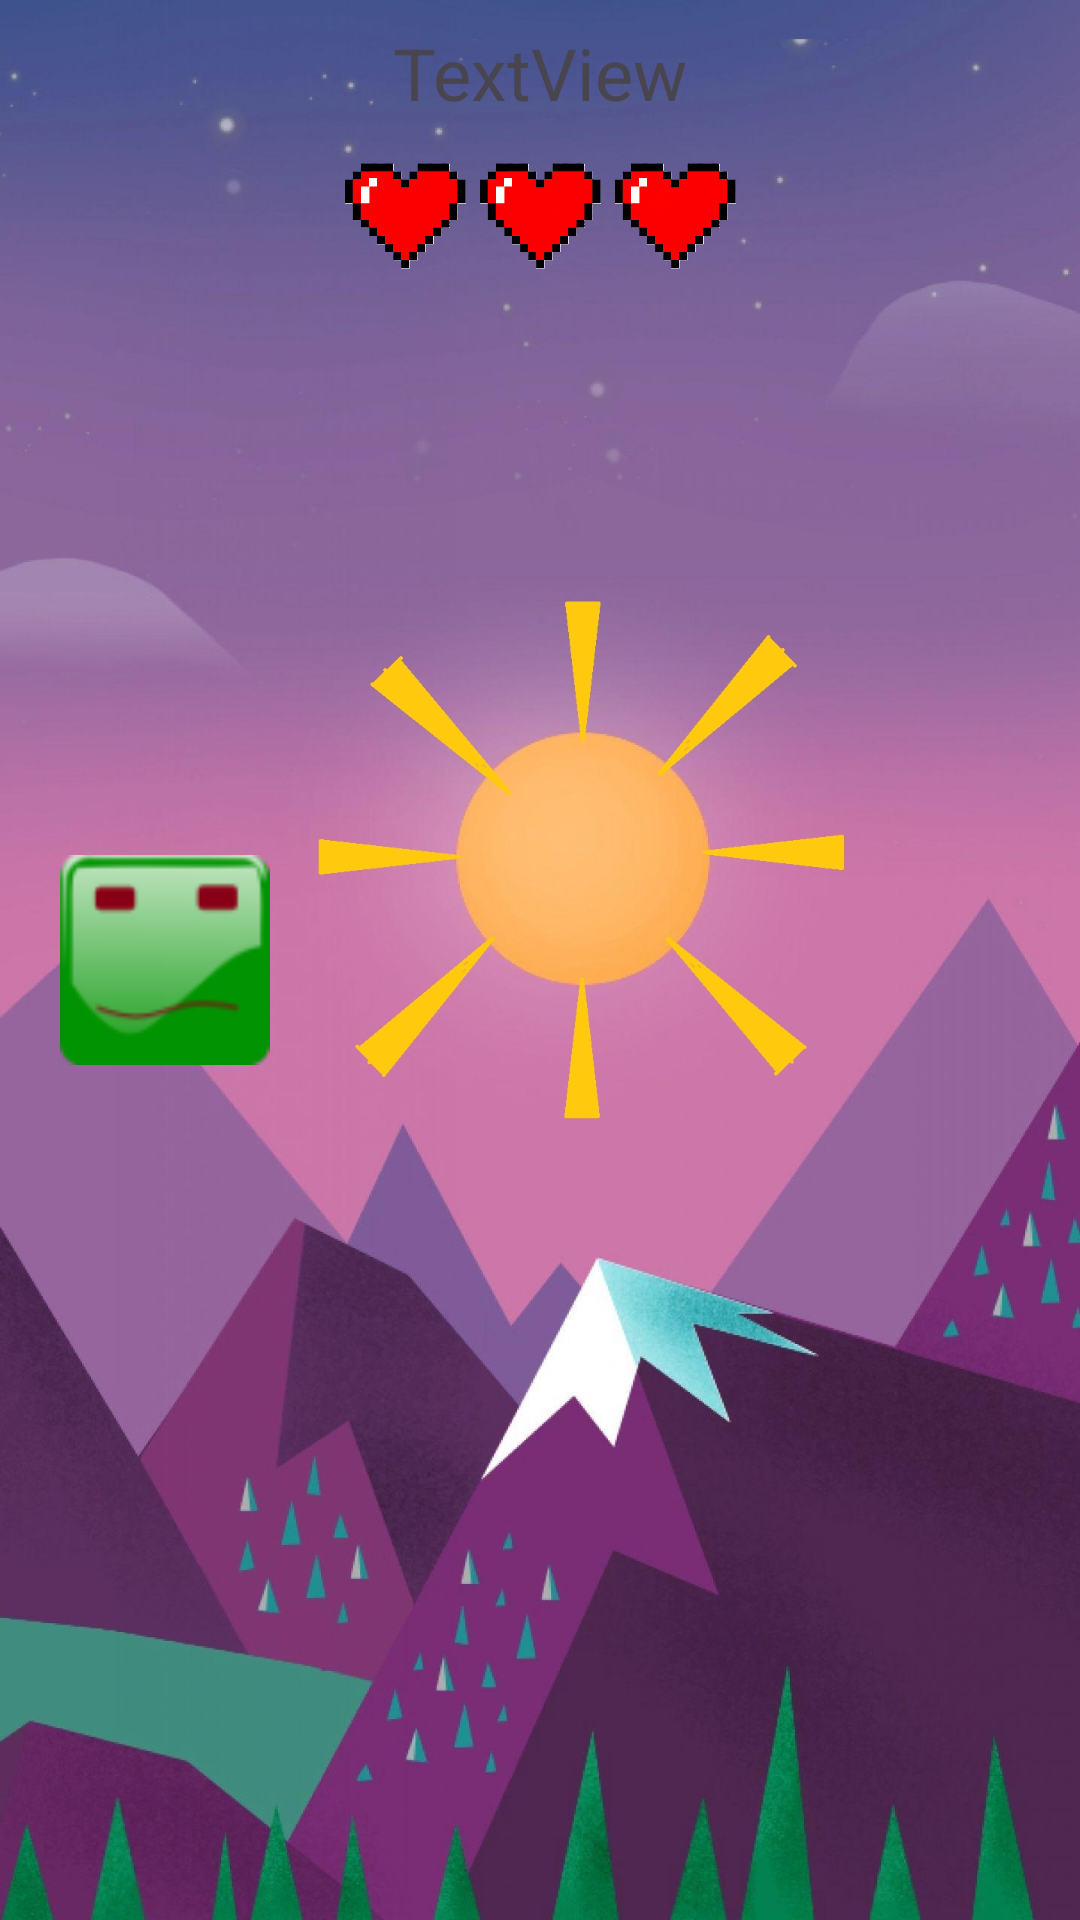

Screen size 1080w x 1920h. Icon name, then its center in pixels as point (x, y):
life: point (405, 212), point (540, 221), point (675, 221)
